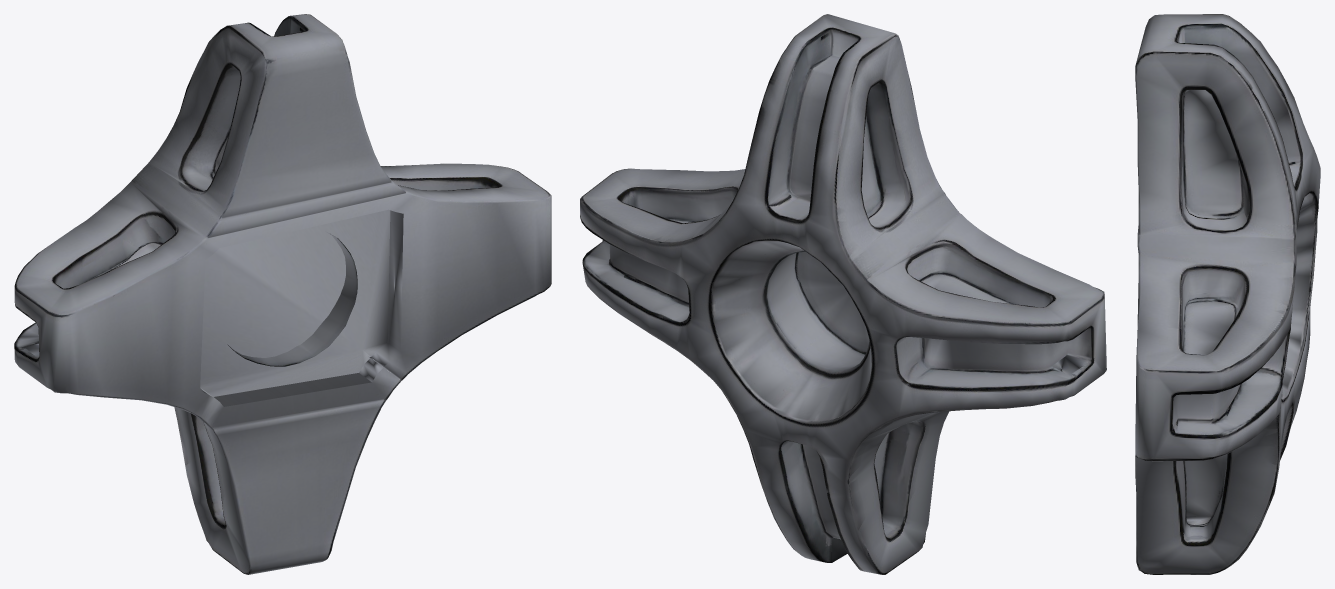
The model's file is hold_12.glb.
The picture shows the model from 3 angles, left to right: view 1: azimuth 30°, elevation 25°; view 2: azimuth 150°, elevation 25°; view 3: azimuth 270°, elevation 25°; orthographic projection. The views are drawn at different scales.
Parts seen in each view (by area): view 1: tripo_node_1612c9ee-d9d8-4e28-8ed0-32b40b4d812d; view 2: tripo_node_1612c9ee-d9d8-4e28-8ed0-32b40b4d812d; view 3: tripo_node_1612c9ee-d9d8-4e28-8ed0-32b40b4d812d.
Boxes of the visible parts, x1=… form: tripo_node_1612c9ee-d9d8-4e28-8ed0-32b40b4d812d: x1=14, y1=14, x2=551, y2=574; tripo_node_1612c9ee-d9d8-4e28-8ed0-32b40b4d812d: x1=580, y1=14, x2=1106, y2=574; tripo_node_1612c9ee-d9d8-4e28-8ed0-32b40b4d812d: x1=1135, y1=14, x2=1320, y2=574.
Bounding box in the file's own units: 0.1412 × 0.1412 × 0.0445.
1 material, 1 textured.
